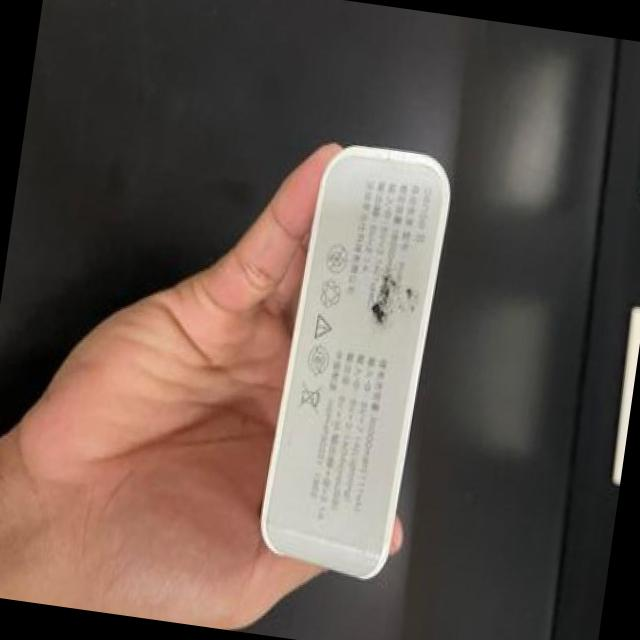power_bank: (248, 132, 463, 588)
